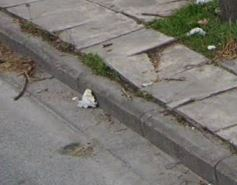trash: (69, 84, 105, 112), (184, 23, 206, 39), (205, 43, 222, 51)
